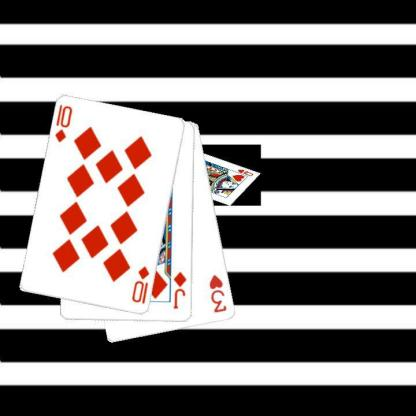10D: (52, 102, 74, 144), (129, 264, 151, 305)
3H: (207, 272, 228, 314)
JD: (171, 270, 188, 310)
